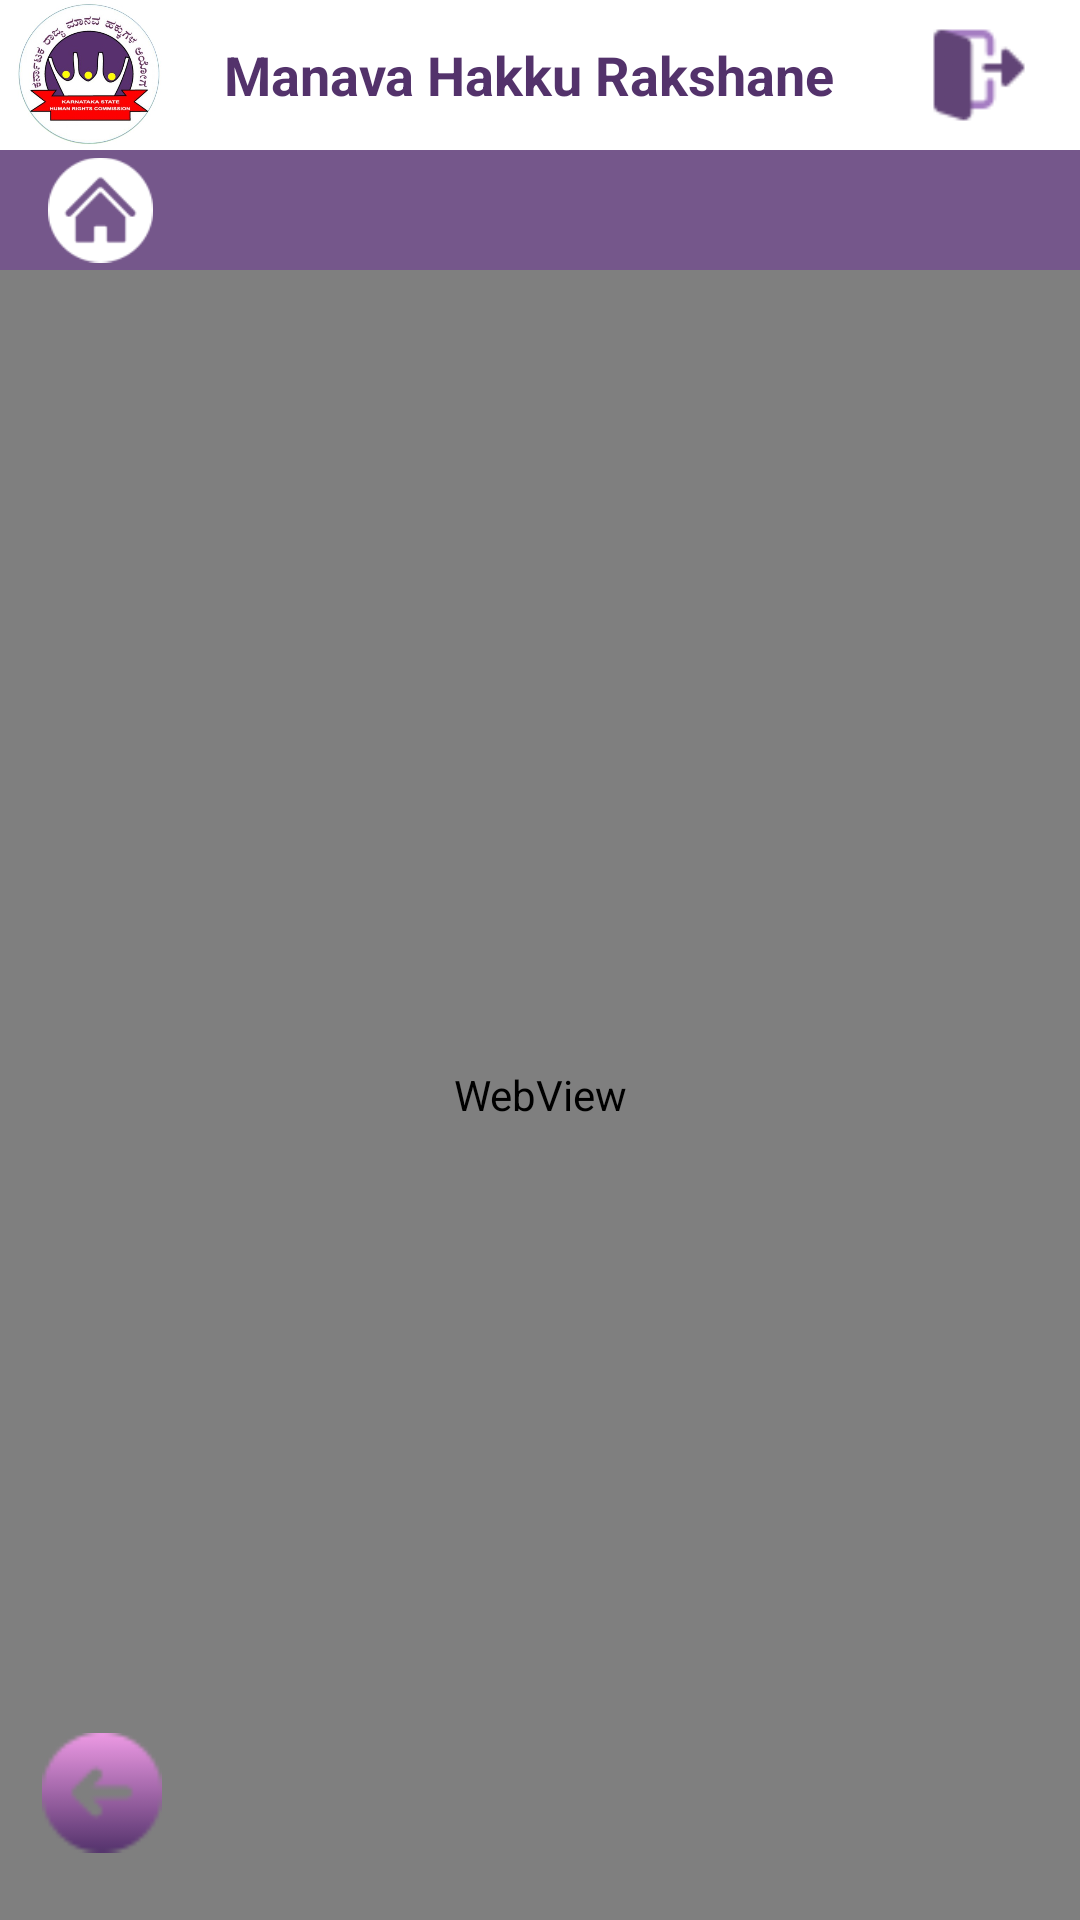

Icon click points for this 1080px x 1920px phone screenshot, format [x,y]:
back: [102,1793]
home: [100,210]
